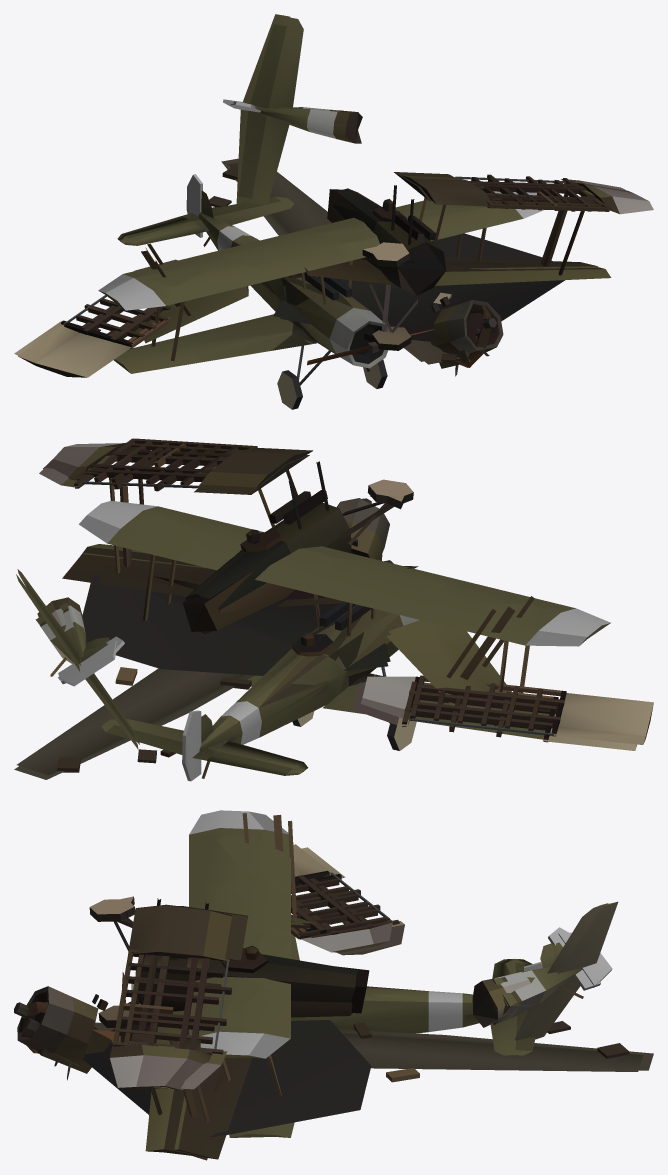
The model's file is plane_ww1_biplane_fractured.glb.
3 renders of one model, top to bottom at view 1: azimuth 30°, elevation 25°; view 2: azimuth 150°, elevation 25°; view 3: azimuth 270°, elevation 25°, orthographic. The views are drawn at different scales.
Parts seen in each view (by area): view 1: plane_ww1_biplane_RUIN_LOD0_mesh, plane_ww1_biplane_DMG_mesh, plane_ww1_biplane_RUIN_LOD1_mesh, plane_ww1_biplane_FRAC_09_mesh, plane_ww1_biplane_FRAC_02_mesh, plane_ww1_biplane_FRAC_14_mesh, plane_ww1_biplane_FRAC_12_mesh, plane_ww1_biplane_RUIN_LOD2_mesh, plane_ww1_biplane_FRAC_10_mesh, plane_ww1_biplane_FRAC_11_mesh, plane_ww1_biplane_FRAC_00_mesh, plane_ww1_biplane_FRAC_13_mesh (+4 smaller); view 2: plane_ww1_biplane_RUIN_LOD0_mesh, plane_ww1_biplane_DMG_mesh, plane_ww1_biplane_RUIN_LOD1_mesh, plane_ww1_biplane_RUIN_LOD2_mesh, plane_ww1_biplane_FRAC_02_mesh, plane_ww1_biplane_FRAC_07_mesh, plane_ww1_biplane_FRAC_14_mesh, plane_ww1_biplane_FRAC_00_mesh, plane_ww1_biplane_FRAC_10_mesh, plane_ww1_biplane_FRAC_11_mesh, plane_ww1_biplane_FRAC_09_mesh, plane_ww1_biplane_FRAC_01_mesh (+6 smaller); view 3: plane_ww1_biplane_RUIN_LOD0_mesh, plane_ww1_biplane_RUIN_LOD1_mesh, plane_ww1_biplane_DMG_mesh, plane_ww1_biplane_RUIN_LOD2_mesh, plane_ww1_biplane_FRAC_07_mesh, plane_ww1_biplane_FRAC_01_mesh, plane_ww1_biplane_FRAC_00_mesh, plane_ww1_biplane_FRAC_02_mesh, plane_ww1_biplane_FRAC_11_mesh, plane_ww1_biplane_FRAC_18_mesh, plane_ww1_biplane_FRAC_10_mesh, plane_ww1_biplane_FRAC_13_mesh (+3 smaller).
Boxes of the visible parts, left/top/right/bottom form: plane_ww1_biplane_RUIN_LOD0_mesh: left=18, top=16, right=653, bottom=377; plane_ww1_biplane_DMG_mesh: left=98, top=175, right=543, bottom=409; plane_ww1_biplane_RUIN_LOD1_mesh: left=14, top=14, right=626, bottom=368; plane_ww1_biplane_FRAC_09_mesh: left=169, top=278, right=293, bottom=361; plane_ww1_biplane_FRAC_02_mesh: left=117, top=174, right=294, bottom=246; plane_ww1_biplane_FRAC_14_mesh: left=283, top=242, right=379, bottom=360; plane_ww1_biplane_FRAC_12_mesh: left=114, top=338, right=202, bottom=373; plane_ww1_biplane_RUIN_LOD2_mesh: left=141, top=110, right=569, bottom=361; plane_ww1_biplane_FRAC_10_mesh: left=222, top=240, right=346, bottom=289; plane_ww1_biplane_FRAC_11_mesh: left=406, top=206, right=504, bottom=261; plane_ww1_biplane_FRAC_00_mesh: left=132, top=251, right=223, bottom=346; plane_ww1_biplane_FRAC_13_mesh: left=99, top=277, right=177, bottom=310; plane_ww1_biplane_RUIN_LOD0_mesh: left=17, top=438, right=653, bottom=775; plane_ww1_biplane_DMG_mesh: left=79, top=501, right=610, bottom=781; plane_ww1_biplane_RUIN_LOD1_mesh: left=16, top=443, right=636, bottom=750; plane_ww1_biplane_RUIN_LOD2_mesh: left=14, top=474, right=502, bottom=779; plane_ww1_biplane_FRAC_02_mesh: left=101, top=710, right=308, bottom=781; plane_ww1_biplane_FRAC_07_mesh: left=220, top=654, right=328, bottom=741; plane_ww1_biplane_FRAC_14_mesh: left=313, top=548, right=398, bottom=676; plane_ww1_biplane_FRAC_00_mesh: left=415, top=602, right=540, bottom=677; plane_ww1_biplane_FRAC_10_mesh: left=331, top=557, right=447, bottom=636; plane_ww1_biplane_FRAC_11_mesh: left=159, top=512, right=247, bottom=586; plane_ww1_biplane_FRAC_09_mesh: left=324, top=656, right=467, bottom=728; plane_ww1_biplane_FRAC_01_mesh: left=81, top=502, right=162, bottom=533; plane_ww1_biplane_RUIN_LOD0_mesh: left=17, top=813, right=643, bottom=1160; plane_ww1_biplane_RUIN_LOD1_mesh: left=42, top=832, right=618, bottom=1159; plane_ww1_biplane_DMG_mesh: left=131, top=812, right=542, bottom=1096; plane_ww1_biplane_RUIN_LOD2_mesh: left=36, top=814, right=653, bottom=1135; plane_ww1_biplane_FRAC_07_mesh: left=335, top=987, right=472, bottom=1033; plane_ww1_biplane_FRAC_01_mesh: left=207, top=1025, right=274, bottom=1058; plane_ww1_biplane_FRAC_00_mesh: left=215, top=830, right=285, bottom=888; plane_ww1_biplane_FRAC_02_mesh: left=466, top=958, right=540, bottom=1055; plane_ww1_biplane_FRAC_11_mesh: left=204, top=976, right=264, bottom=1080; plane_ww1_biplane_FRAC_18_mesh: left=202, top=840, right=245, bottom=890; plane_ww1_biplane_FRAC_10_mesh: left=198, top=881, right=284, bottom=913; plane_ww1_biplane_FRAC_13_mesh: left=200, top=810, right=269, bottom=841.
Size of the model in its own units: 11.2 by 4.33 by 9.42.
